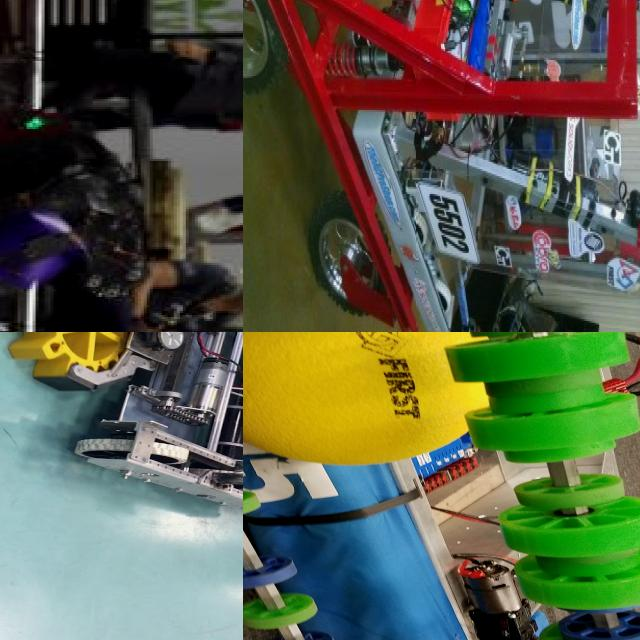FRC-Robots: (243, 332, 640, 640), (353, 0, 640, 332), (18, 332, 243, 535), (0, 56, 153, 332)
